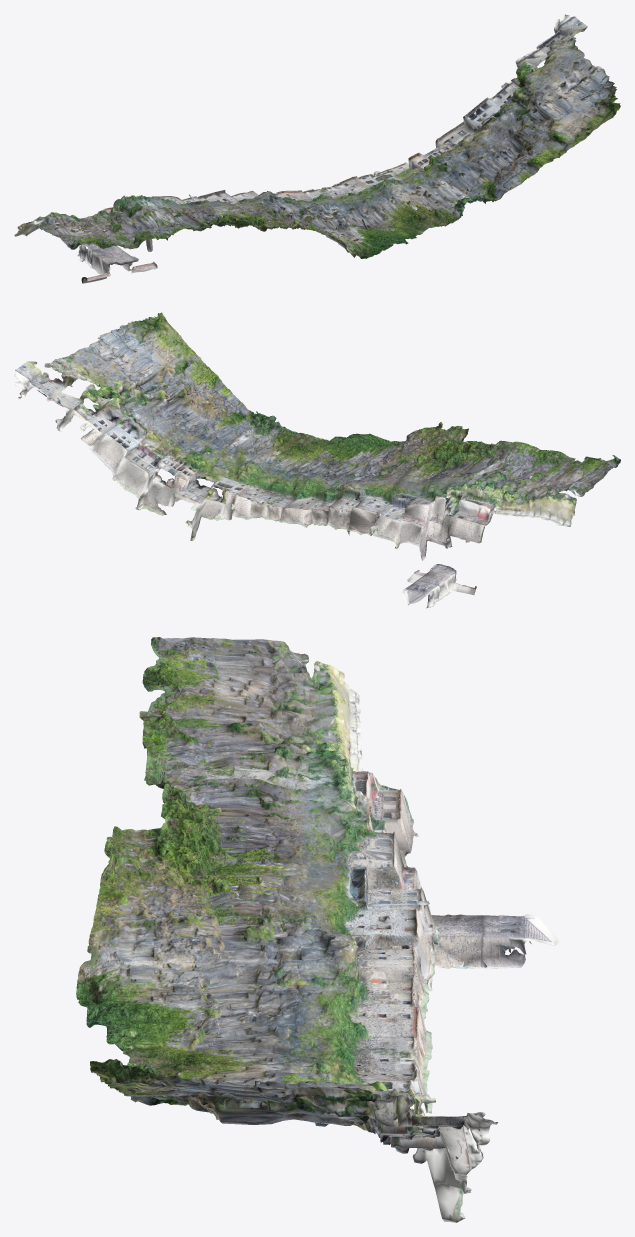
File: castellFollit_02.obj
The picture shows the model from 3 angles, top to bottom: view 1: azimuth 30°, elevation 25°; view 2: azimuth 150°, elevation 25°; view 3: azimuth 270°, elevation 25°; orthographic projection. The views are drawn at different scales.
Visible parts, largest first — view 1: Model.002_Model.011; view 2: Model.002_Model.011; view 3: Model.002_Model.011.
Part boxes in pixels (x1,y1,x2,y2): Model.002_Model.011: (14,14,620,283); Model.002_Model.011: (14,312,620,608); Model.002_Model.011: (76,637,558,1222).
Bounding box in the file's own units: 50.83 × 12.35 × 19.98.
1 material, 1 textured.
